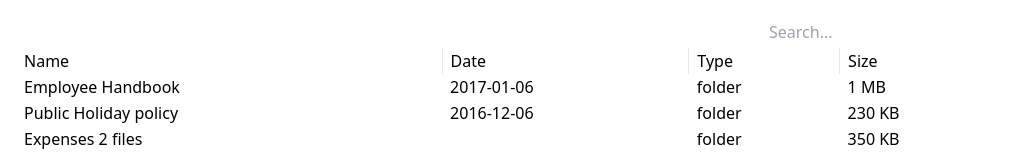
Test: Table component › filters data based on search term
Note: Type "employee" into the search input
Type "employee" into the field with placeholder "Search...".
click(884, 32); type("employee")  # box [761, 16, 1008, 48]
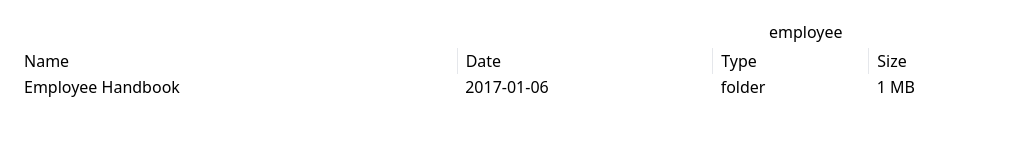
Expected: the text "Employee Handbook" is shown, [16, 74, 457, 100]
Now the text "Public Holiday policy" is gone
Now the text "Expenses" is gone
